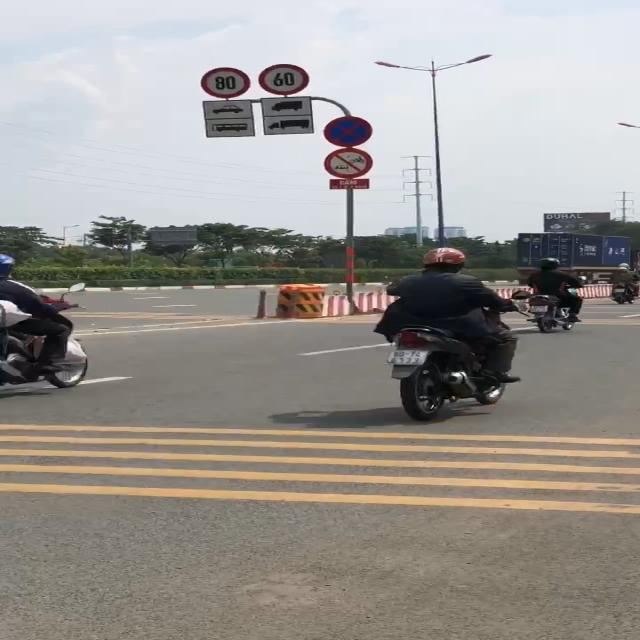Bien bao cam dung xe va do xe: (323, 113, 376, 148)
Bien bao toc do toi da cho phep: (200, 64, 253, 102), (257, 63, 316, 97)
